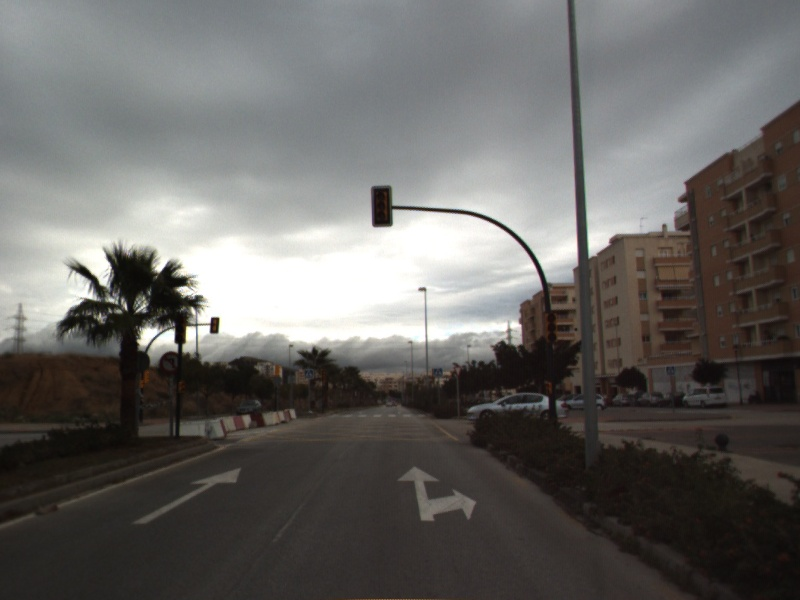STRAIGHT: (130, 466, 243, 526)
STRAIGHT_RIGHT: (395, 464, 478, 523)
